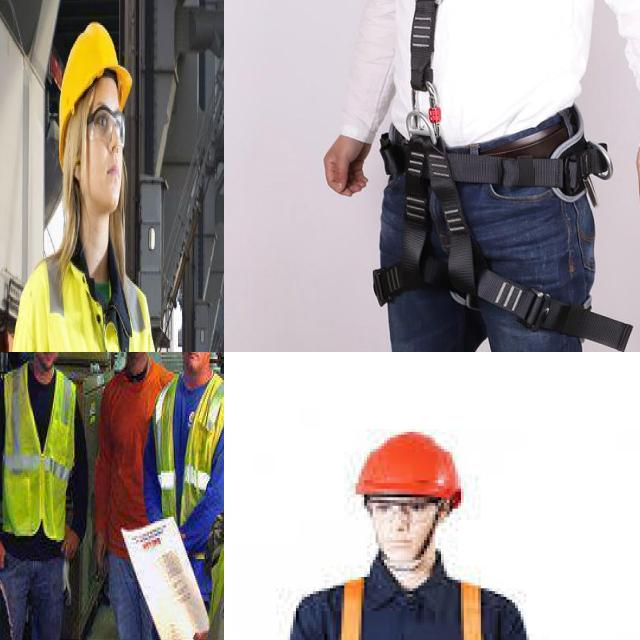Harness: (382, 0, 513, 297)
face_nomask: (76, 83, 132, 220), (28, 352, 60, 376), (183, 352, 214, 375)
glasses: (88, 99, 126, 149)
head_helmet: (56, 32, 145, 112)
person: (5, 12, 192, 352), (153, 352, 224, 640), (0, 352, 82, 592), (95, 352, 179, 586)
vest: (6, 242, 183, 352), (155, 359, 224, 603), (0, 352, 81, 550)
